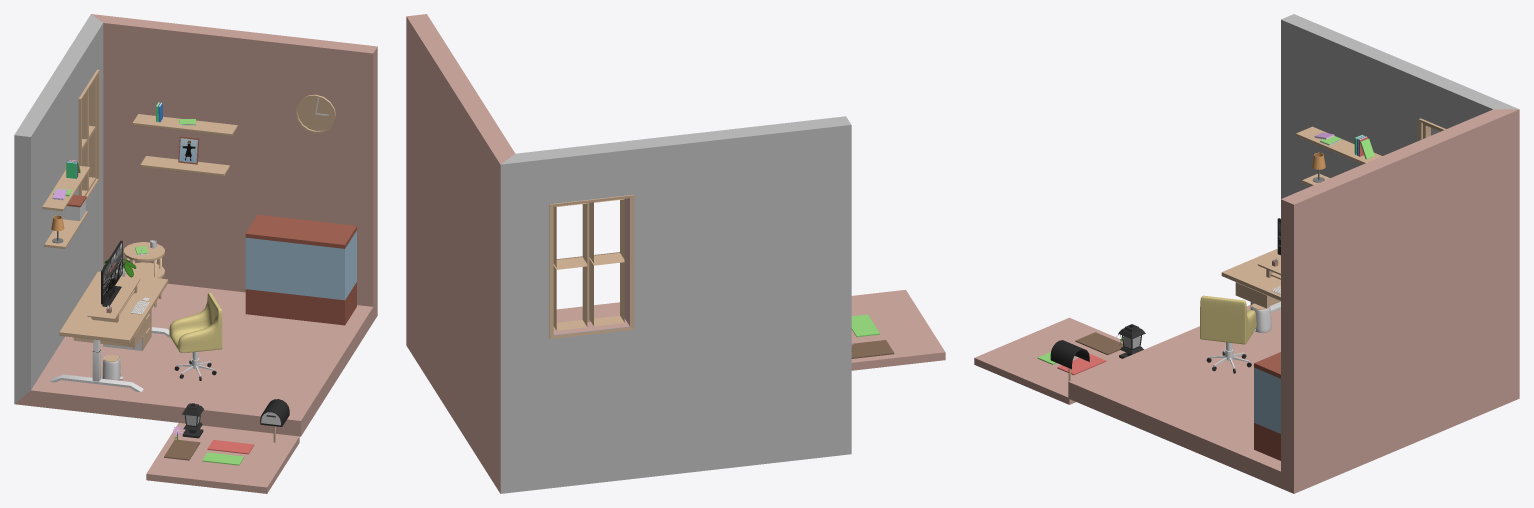
The model's file is House3.glb.
The picture shows the model from 3 angles, left to right: view 1: azimuth 30°, elevation 25°; view 2: azimuth 150°, elevation 25°; view 3: azimuth 270°, elevation 25°; orthographic projection. The views are drawn at different scales.
Parts seen in each view (by area): view 1: Cube.003, Cube.101, FishTank, Cube.092, Table Top, Plane, Cube.091, Cylinder.008, Wall Rack 2.001, Table Top.001, Wall Rack.001, Wall Rack 2 (+12 smaller); view 2: Cube.003, Plane, Cube.101, Cube.105; view 3: Cube.003, Cube.101, Cube.091, FishTank, Table Top, Cube.092, Wall Rack 2, Cylinder.009, Cube.105.
Boxes of the visible parts, bbox=[...] form: Cube.003: bbox=[14, 14, 377, 436]; Cube.101: bbox=[146, 423, 299, 493]; FishTank: bbox=[245, 230, 356, 300]; Cube.092: bbox=[245, 214, 356, 325]; Table Top: bbox=[59, 271, 168, 343]; Plane: bbox=[78, 69, 99, 200]; Cube.091: bbox=[169, 292, 222, 352]; Cylinder.008: bbox=[295, 94, 336, 133]; Wall Rack 2.001: bbox=[132, 114, 237, 136]; Table Top.001: bbox=[87, 276, 140, 322]; Wall Rack.001: bbox=[140, 156, 229, 176]; Wall Rack 2: bbox=[42, 166, 89, 211]; Cube.003: bbox=[406, 14, 851, 493]; Plane: bbox=[549, 194, 634, 338]; Cube.101: bbox=[851, 289, 945, 370]; Cube.105: bbox=[851, 340, 894, 358]; Cube.003: bbox=[1068, 14, 1519, 493]; Cube.101: bbox=[974, 317, 1144, 404]; Cube.091: bbox=[1200, 295, 1256, 344]; FishTank: bbox=[1254, 367, 1280, 433]; Table Top: bbox=[1221, 249, 1280, 300]; Cube.092: bbox=[1254, 352, 1280, 460]; Wall Rack 2: bbox=[1296, 126, 1382, 164]; Cylinder.009: bbox=[1050, 340, 1089, 369]; Cube.105: bbox=[1075, 332, 1123, 355].
Bounding box in the file's own units: 28.62 × 20.72 × 34.59.
36 materials, 2 textured.
